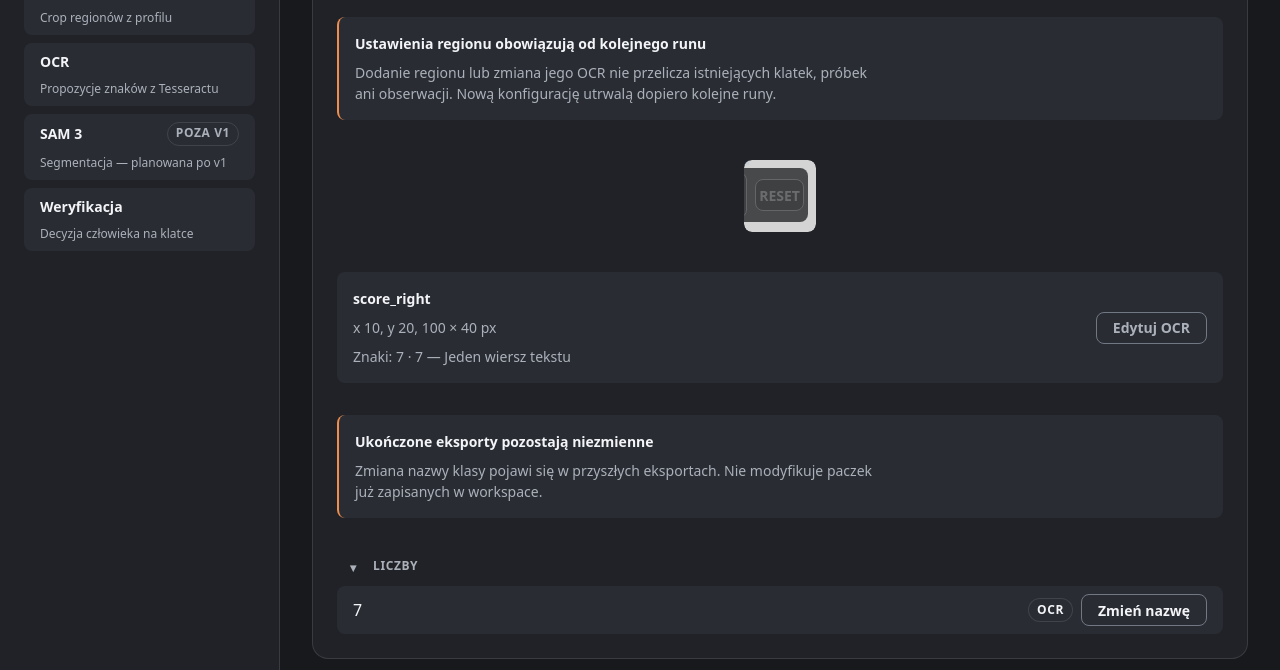
it: profile collection and explicit selection › validates the profile character subset and edits only an existing region's OCR
(page scrolled)
Click the button with aria-label "Edytuj OCR regionu score_right" at (1151, 328), box [1096,312,1207,344]
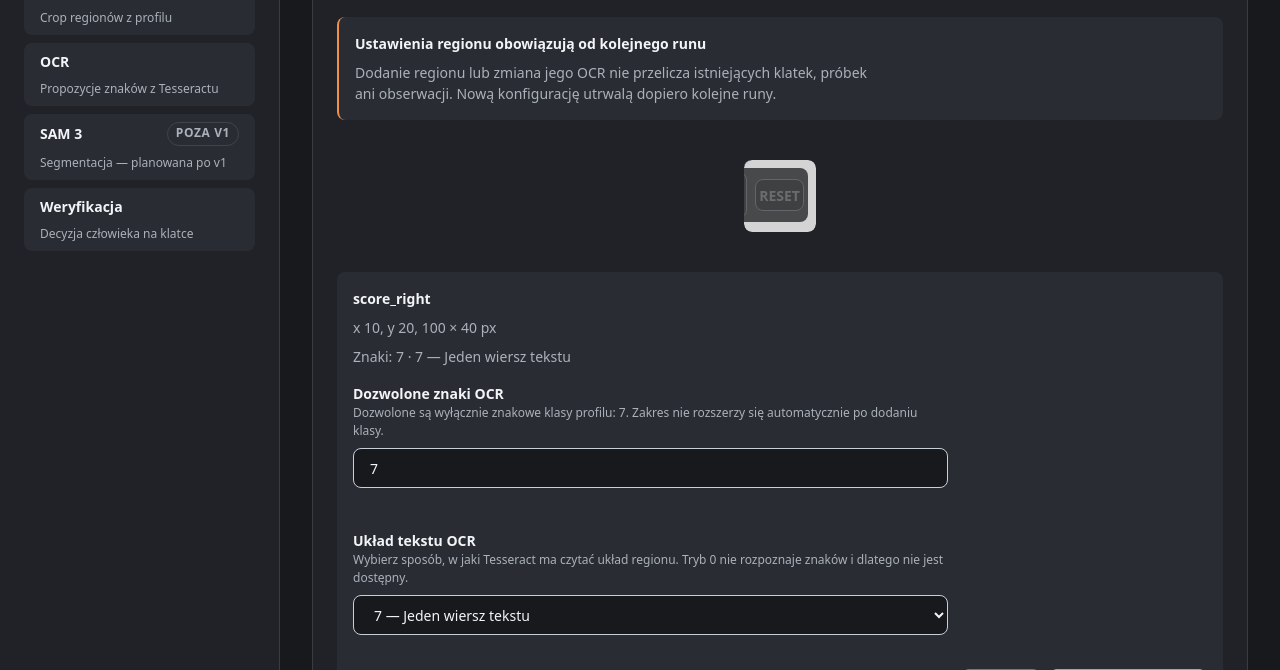
Replace the text in the field labelled "Dozwolone znaki OCR" with "7W" at (650, 468), box [353,448,948,488]
(page scrolled)
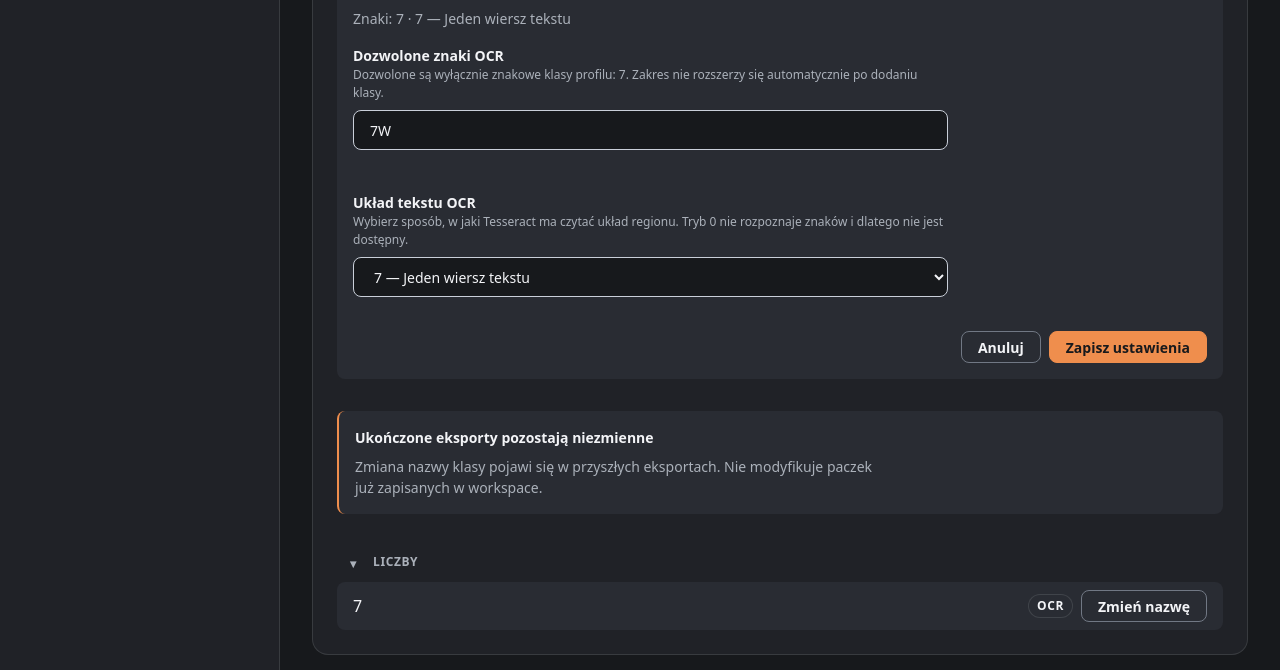
Click the button "Zapisz ustawienia" at (1128, 347), box [1049,331,1207,363]
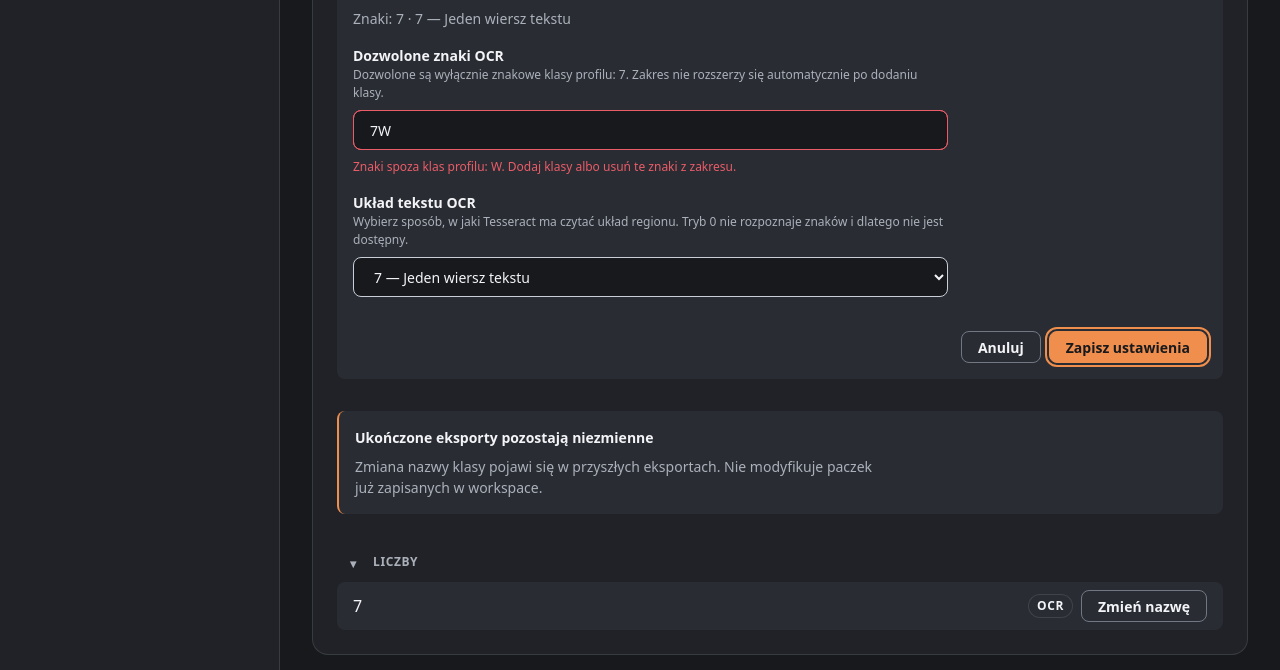
Expected: the text "Znaki spoza klas profilu: W. Dodaj klasy albo usuń te znaki z zakresu." is shown, [353,158,736,175]
Replace the text in the field labelled "Dozwolone znaki OCR" with "7" at (650, 130), box [353,110,948,150]
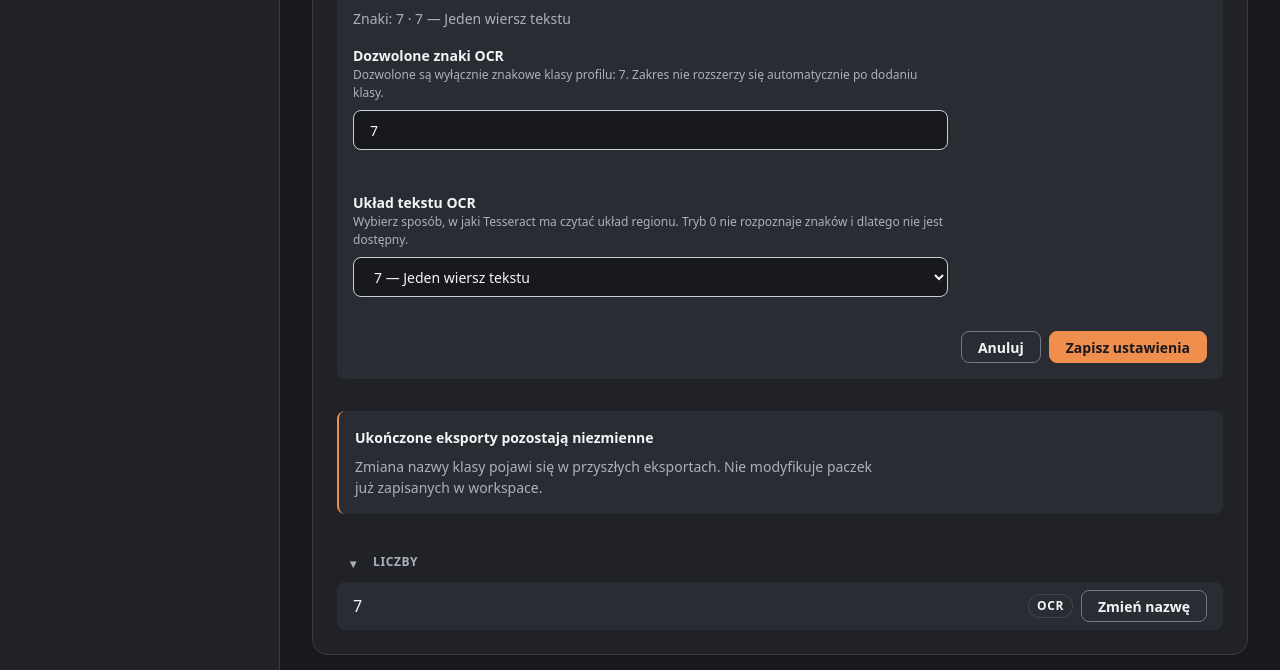
Select "6 — Jeden zwarty blok tekstu" in the dropdown labelled "Układ tekstu OCR" at (650, 277), box [353,257,948,297]
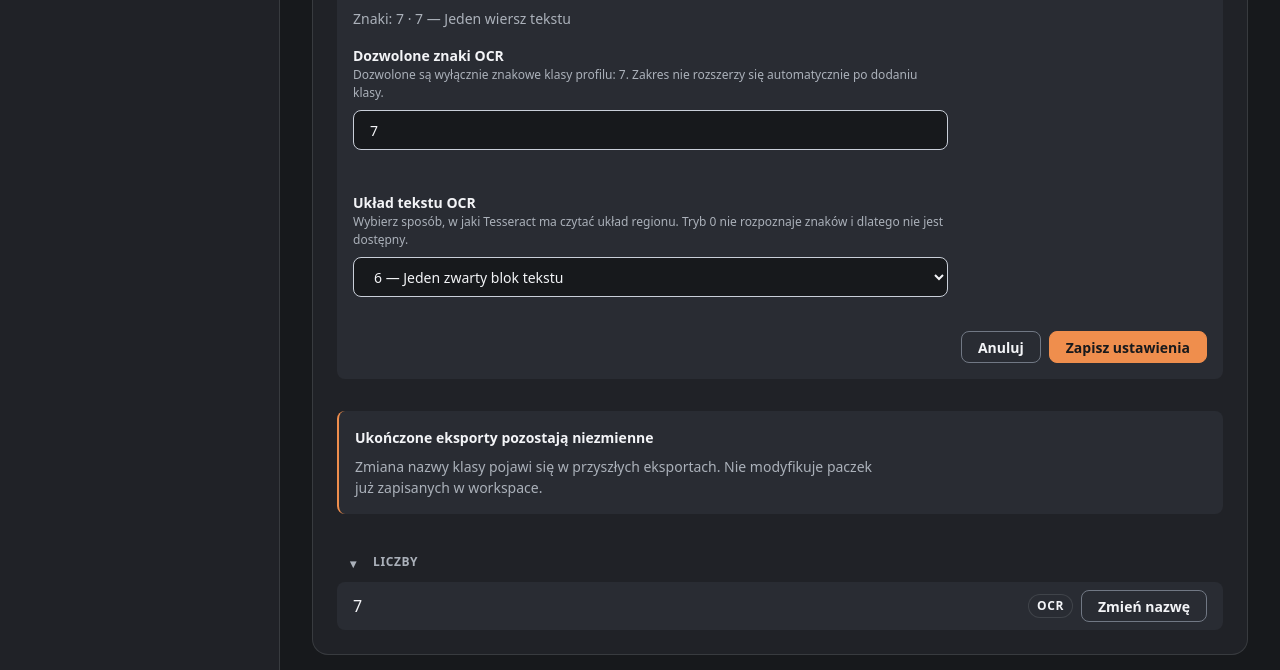
Click the button "Zapisz ustawienia" at (1128, 347), box [1049,331,1207,363]
(page scrolled)
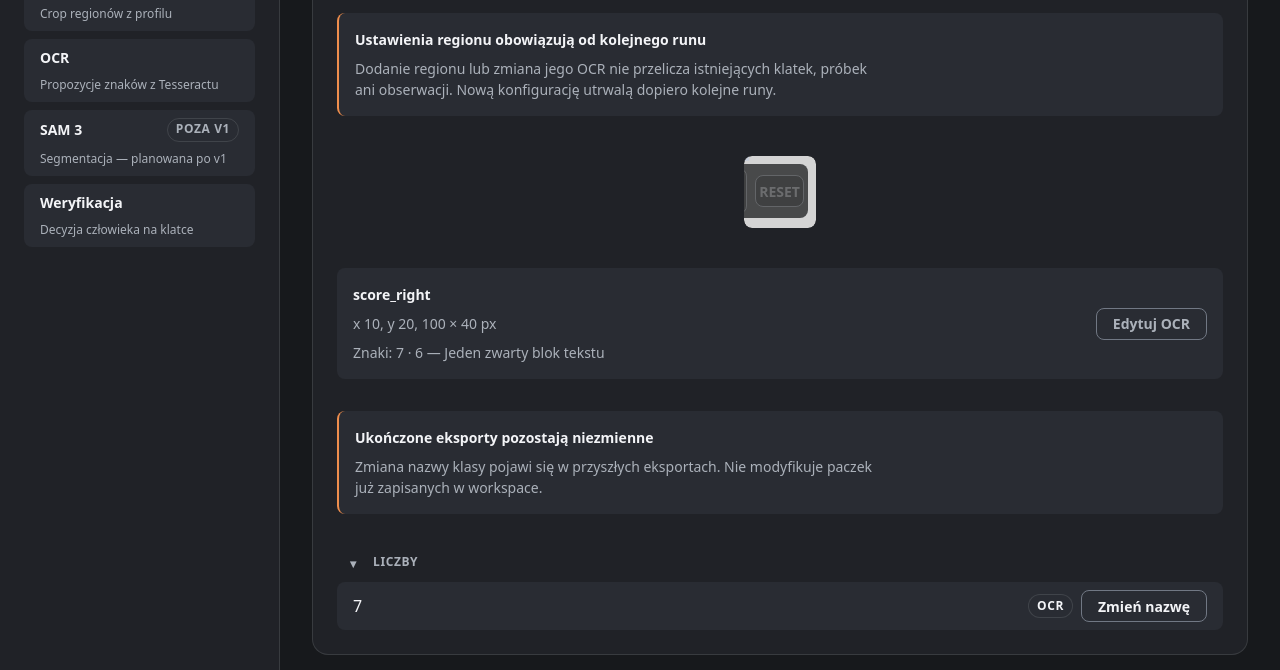
Expected: the text "Znaki: 7 · 6 — Jeden zwarty blok tekstu" is shown, [353,342,605,363]
